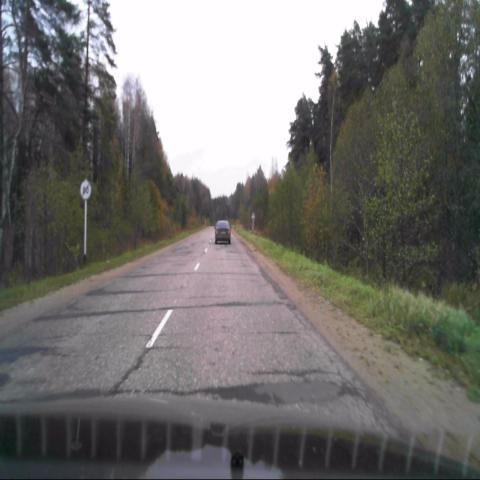3_25: (79, 179, 92, 200)
